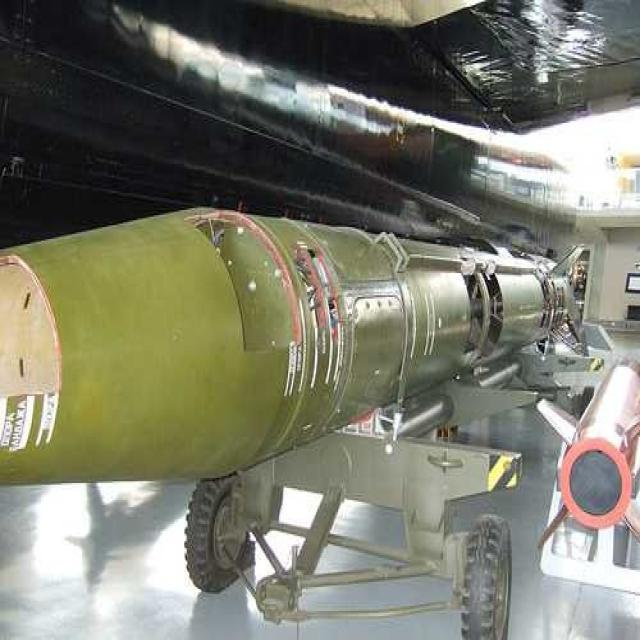missile: (0, 192, 587, 482), (533, 340, 636, 566)
